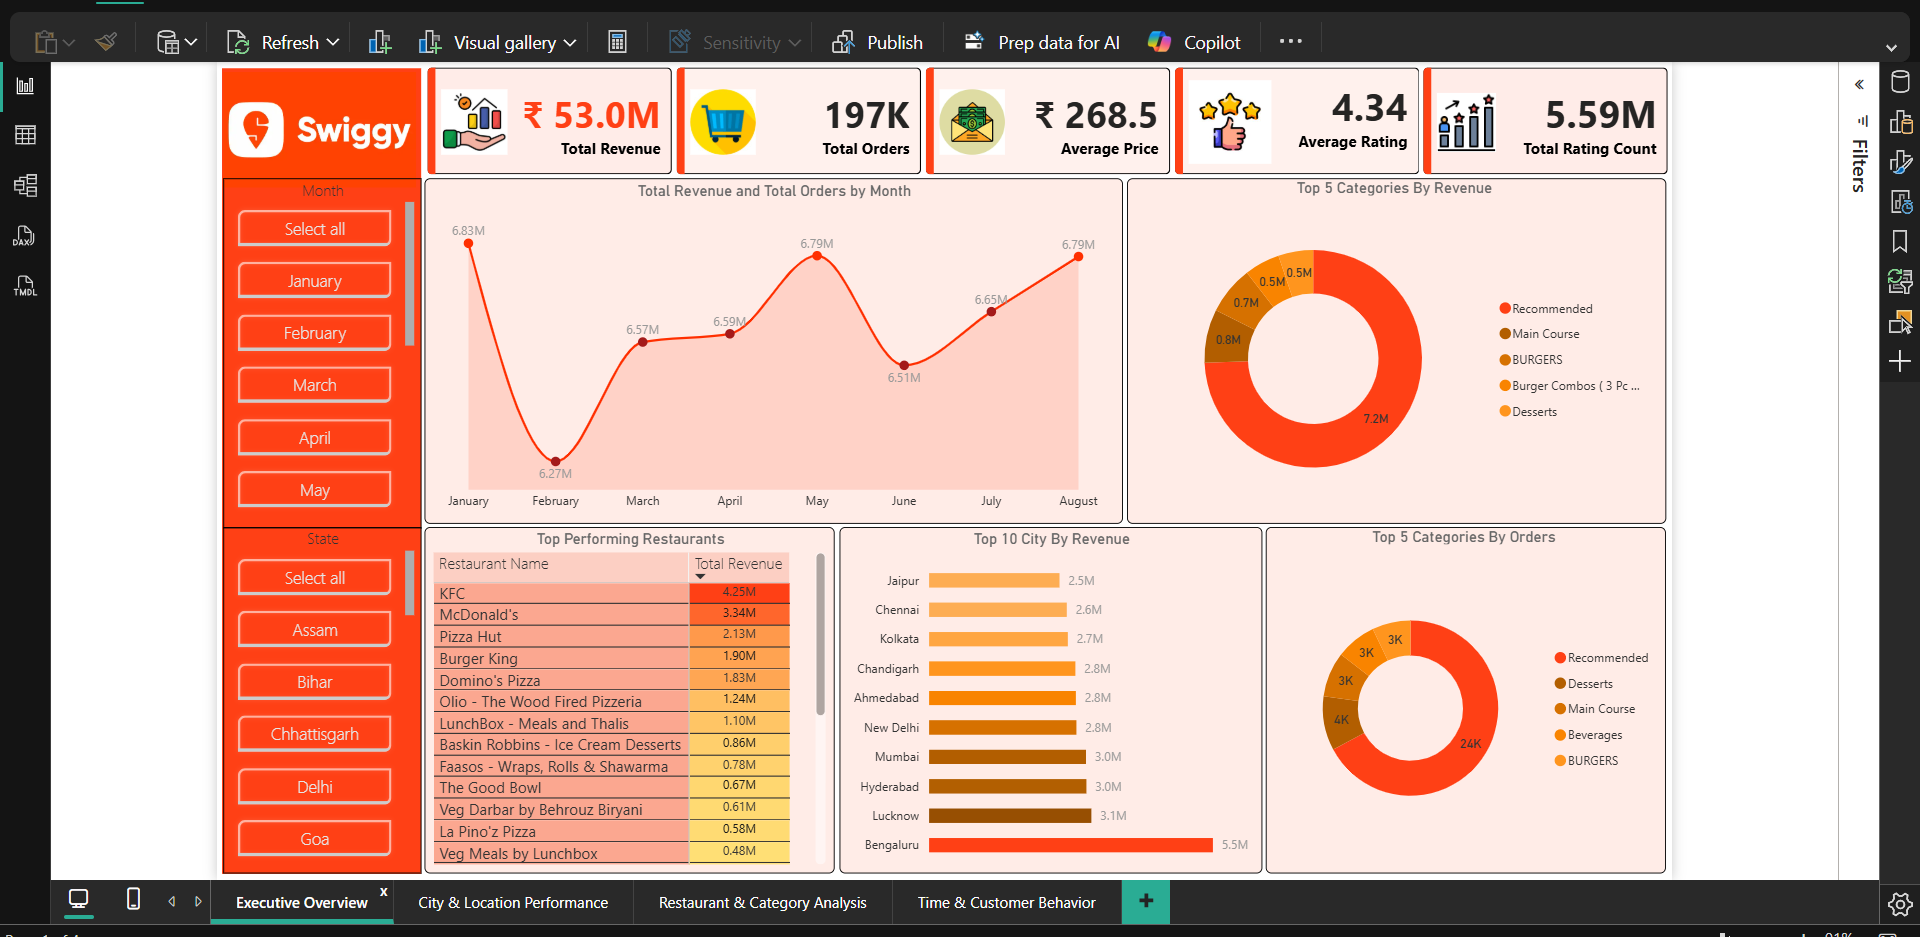

This screenshot's page, from the dashboard's own definition file:
{"tool":"powerbi","page":{"name":"Executive Overview","canvas":[1280,720],"ordinal":0},"visuals":[{"type":"shape","box":[4.3,5.8,175.4,708.7],"z":0},{"type":"image","box":[5,8.7,169.6,101.4],"z":1000},{"type":"cardVisual","fields":{"Data":["swiggy.Total Revenue","swiggy.Total Orders","swiggy.AOV","swiggy.Avg Rating","swiggy.Total Rating Count"]},"box":[180,0,1100,104],"z":2000},{"type":"listSlicer","title":"State","fields":{"Values":["swiggy.state"]},"box":[5,409,174,304.5],"z":3000},{"type":"lineChart","fields":{"Y":["swiggy.Total Revenue"],"Category":["swiggy.order_date.Variation.Date Hierarchy.Month"]},"box":[183,102,614,304],"z":4000},{"type":"donutChart","title":"Top 5 Categories By Revenue","fields":{"Y":["swiggy.Total Revenue"],"Category":["swiggy.category"]},"box":[801,102,474,304],"z":5000},{"type":"barChart","title":"Top 10 City By Revenue","fields":{"Category":["swiggy.city"],"Y":["swiggy.Total Revenue"]},"box":[548,409,372,305],"z":6000},{"type":"pivotTable","title":"Top Performing Restaurants","fields":{"Rows":["swiggy.restaurant_name"],"Values":["swiggy.Total Revenue"]},"box":[183,409,361,305],"z":7000},{"type":"donutChart","title":"Top 5 Categories By Orders","fields":{"Y":["swiggy.Total Orders"],"Category":["swiggy.category"]},"box":[923,409,352,305],"z":8000},{"type":"listSlicer","title":"Month","fields":{"Values":["swiggy.order_date.Variation.Date Hierarchy.Month"]},"box":[5,102.5,174,308.1],"z":9000}]}

Visuals, with their boxes on the page's 1280x720 design canvas (x1, y1, x2, y2). These are canvas units, not pixel positions in the 1920x937 screenshot, which may show the page scaled, cropped or inside an application window:
shape: {"left": 4, "top": 6, "right": 180, "bottom": 714}
image: {"left": 5, "top": 9, "right": 175, "bottom": 110}
cardVisual - swiggy.Total Revenue x swiggy.Total Orders: {"left": 180, "top": 0, "right": 1280, "bottom": 104}
"State" listSlicer: {"left": 5, "top": 409, "right": 179, "bottom": 714}
lineChart - swiggy.Total Revenue x swiggy.order_date.Variation.Date Hierarchy.Month: {"left": 183, "top": 102, "right": 797, "bottom": 406}
"Top 5 Categories By Revenue" donutChart: {"left": 801, "top": 102, "right": 1275, "bottom": 406}
"Top 10 City By Revenue" barChart: {"left": 548, "top": 409, "right": 920, "bottom": 714}
"Top Performing Restaurants" pivotTable: {"left": 183, "top": 409, "right": 544, "bottom": 714}
"Top 5 Categories By Orders" donutChart: {"left": 923, "top": 409, "right": 1275, "bottom": 714}
"Month" listSlicer: {"left": 5, "top": 102, "right": 179, "bottom": 411}
